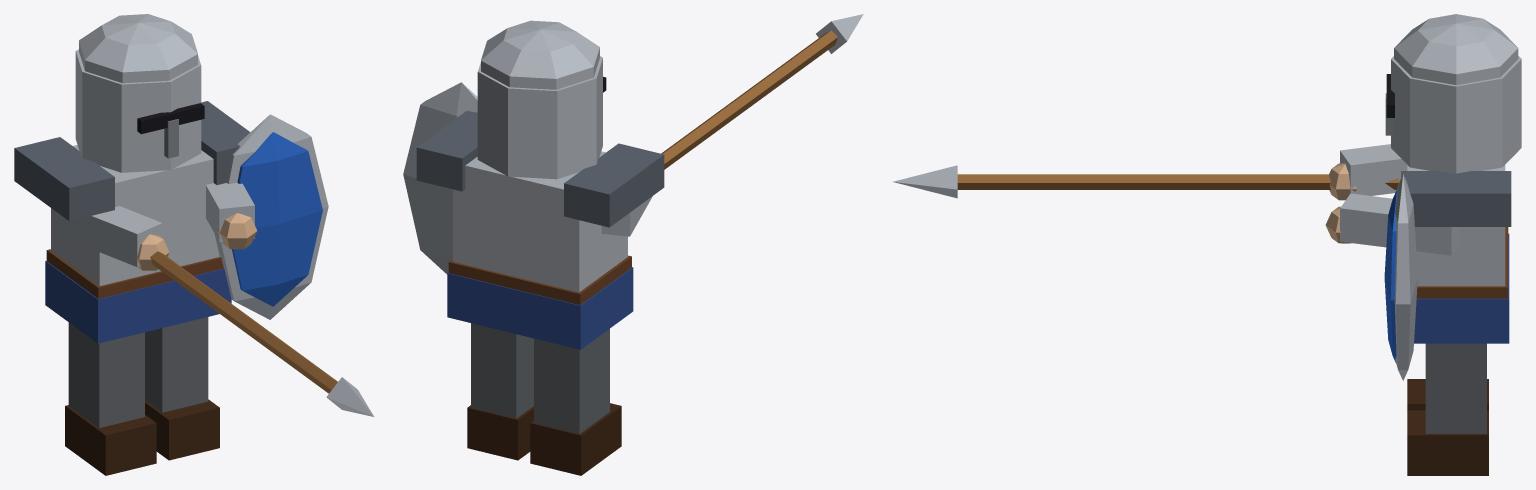
File: u_knight.fbx
The picture shows the model from 3 angles, left to right: view 1: azimuth 30°, elevation 25°; view 2: azimuth 150°, elevation 25°; view 3: azimuth 270°, elevation 25°; orthographic projection.
Visible parts, largest first — view 1: u_knight_Body, u_knight_LegR, u_knight_LegL; view 2: u_knight_Body, u_knight_LegR, u_knight_LegL; view 3: u_knight_Body, u_knight_LegL, u_knight_LegR.
Part boxes in pixels (<box>): u_knight_Body: <box>14,14,373,416</box>; u_knight_LegR: <box>65,322,156,475</box>; u_knight_LegL: <box>145,317,219,460</box>; u_knight_Body: <box>403,14,863,349</box>; u_knight_LegR: <box>530,329,621,475</box>; u_knight_LegL: <box>467,323,533,460</box>; u_knight_Body: <box>892,14,1521,380</box>; u_knight_LegL: <box>1407,343,1488,475</box>; u_knight_LegR: <box>1407,379,1488,410</box>.
Bounding box in the file's own units: 0.7309 × 1.15 × 1.54.
